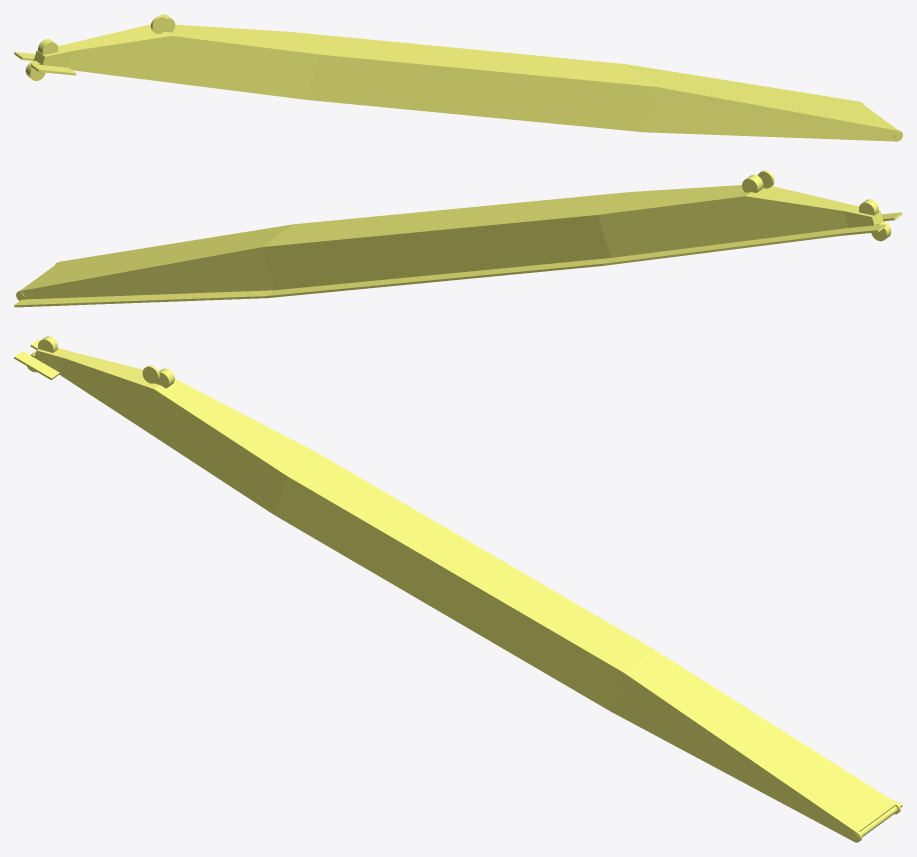
File: Image-1710907725412-2280988624880_73-MA50-CRANE-JIB.fbx
The picture shows the model from 3 angles, top to bottom: view 1: azimuth 30°, elevation 25°; view 2: azimuth 150°, elevation 25°; view 3: azimuth 330°, elevation 25°; orthographic projection.
Parts seen in each view (by area): view 1: BOX 1 of STRUCTURE /73-MA50-CRANE-JIB, PYRAMID 1 of STRUCTURE /73-MA50-CRANE-JIB, PYRAMID 2 of STRUCTURE /73-MA50-CRANE-JIB, PYRAMID 3 of STRUCTURE /73-MA50-CRANE-JIB, PYRAMID 4 of STRUCTURE /73-MA50-CRANE-JIB, BOX 4 of STRUCTURE /73-MA50-CRANE-JIB; view 2: BOX 1 of STRUCTURE /73-MA50-CRANE-JIB, PYRAMID 1 of STRUCTURE /73-MA50-CRANE-JIB, PYRAMID 2 of STRUCTURE /73-MA50-CRANE-JIB, PYRAMID 3 of STRUCTURE /73-MA50-CRANE-JIB, BOX 5 of STRUCTURE /73-MA50-CRANE-JIB, PYRAMID 5 of STRUCTURE /73-MA50-CRANE-JIB, PYRAMID 6 of STRUCTURE /73-MA50-CRANE-JIB, PYRAMID 4 of STRUCTURE /73-MA50-CRANE-JIB, BOX 3 of STRUCTURE /73-MA50-CRANE-JIB, CYLINDER 7 of STRUCTURE /73-MA50-CRANE-JIB; view 3: BOX 1 of STRUCTURE /73-MA50-CRANE-JIB, PYRAMID 1 of STRUCTURE /73-MA50-CRANE-JIB, PYRAMID 2 of STRUCTURE /73-MA50-CRANE-JIB, PYRAMID 3 of STRUCTURE /73-MA50-CRANE-JIB.
Boxes of the visible parts, x1=… form: BOX 1 of STRUCTURE /73-MA50-CRANE-JIB: x1=288, y1=31, x2=656, y2=132; PYRAMID 1 of STRUCTURE /73-MA50-CRANE-JIB: x1=625, y1=64, x2=898, y2=141; PYRAMID 2 of STRUCTURE /73-MA50-CRANE-JIB: x1=159, y1=24, x2=319, y2=99; PYRAMID 3 of STRUCTURE /73-MA50-CRANE-JIB: x1=65, y1=24, x2=171, y2=81; PYRAMID 4 of STRUCTURE /73-MA50-CRANE-JIB: x1=33, y1=44, x2=73, y2=67; BOX 4 of STRUCTURE /73-MA50-CRANE-JIB: x1=30, y1=64, x2=76, y2=75; BOX 1 of STRUCTURE /73-MA50-CRANE-JIB: x1=262, y1=192, x2=628, y2=290; PYRAMID 1 of STRUCTURE /73-MA50-CRANE-JIB: x1=20, y1=224, x2=292, y2=299; PYRAMID 2 of STRUCTURE /73-MA50-CRANE-JIB: x1=598, y1=185, x2=757, y2=257; PYRAMID 3 of STRUCTURE /73-MA50-CRANE-JIB: x1=745, y1=186, x2=851, y2=239; BOX 5 of STRUCTURE /73-MA50-CRANE-JIB: x1=266, y1=258, x2=610, y2=298; PYRAMID 5 of STRUCTURE /73-MA50-CRANE-JIB: x1=14, y1=290, x2=273, y2=307; PYRAMID 6 of STRUCTURE /73-MA50-CRANE-JIB: x1=603, y1=228, x2=847, y2=265; PYRAMID 4 of STRUCTURE /73-MA50-CRANE-JIB: x1=844, y1=205, x2=883, y2=227; BOX 3 of STRUCTURE /73-MA50-CRANE-JIB: x1=841, y1=224, x2=886, y2=235; CYLINDER 7 of STRUCTURE /73-MA50-CRANE-JIB: x1=742, y1=174, x2=763, y2=192; BOX 1 of STRUCTURE /73-MA50-CRANE-JIB: x1=274, y1=453, x2=654, y2=711; PYRAMID 1 of STRUCTURE /73-MA50-CRANE-JIB: x1=611, y1=650, x2=896, y2=840; PYRAMID 2 of STRUCTURE /73-MA50-CRANE-JIB: x1=141, y1=379, x2=318, y2=514; PYRAMID 3 of STRUCTURE /73-MA50-CRANE-JIB: x1=59, y1=352, x2=159, y2=427.
Size of the model in its own units: 43.49 by 4.27 by 14.03.
